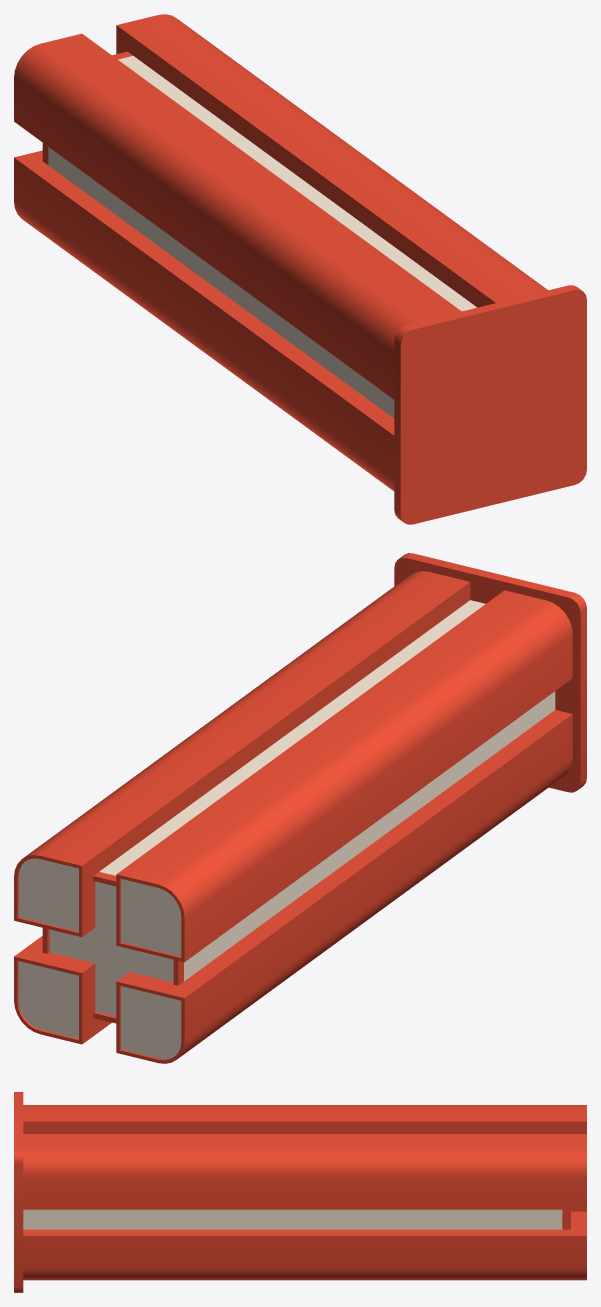
Rendered from Building07.fbx.
The picture shows the model from 3 angles, top to bottom: view 1: azimuth 30°, elevation 25°; view 2: azimuth 150°, elevation 25°; view 3: azimuth 270°, elevation 25°; orthographic projection. The views are drawn at different scales.
Parts seen in each view (by area): view 1: c011; view 2: c011; view 3: c011.
Boxes of the visible parts, x1,y1,x2,y2 form: c011: [14, 14, 586, 524]; c011: [14, 553, 586, 1063]; c011: [14, 1092, 586, 1292].
Bounding box in the file's own units: 888 × 888 × 3260.
